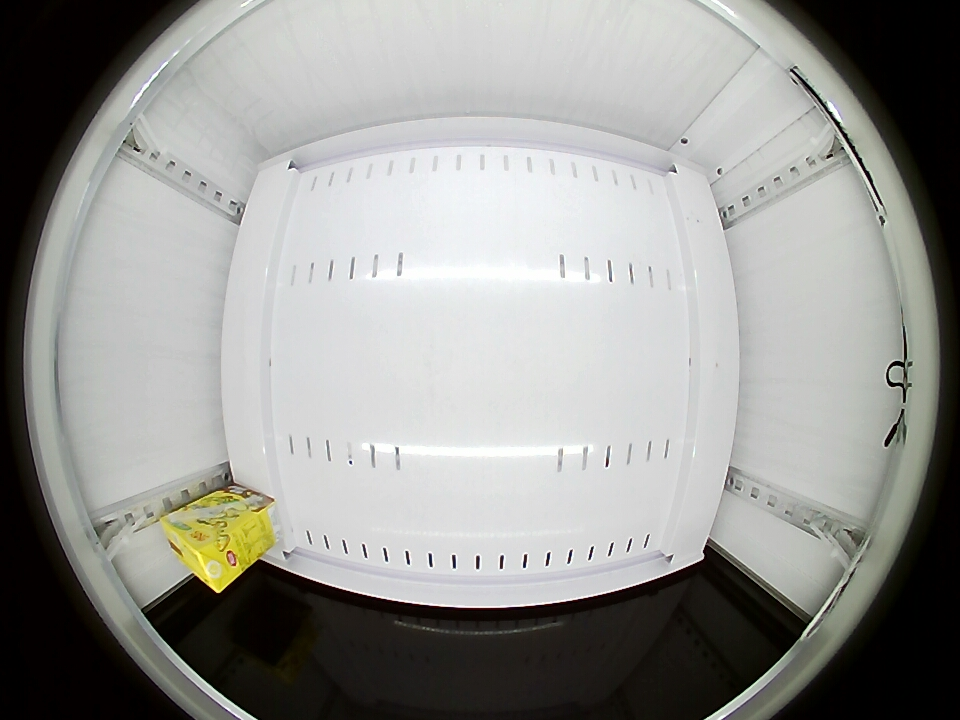weitaningmeng: (161, 507, 243, 593)
